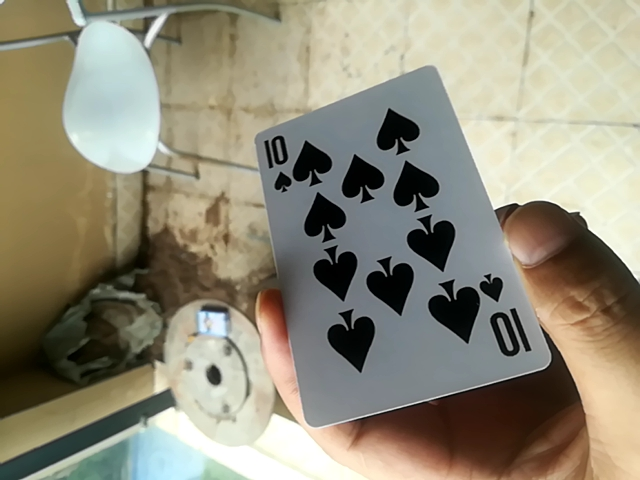ht 10: (258, 67, 548, 429)
